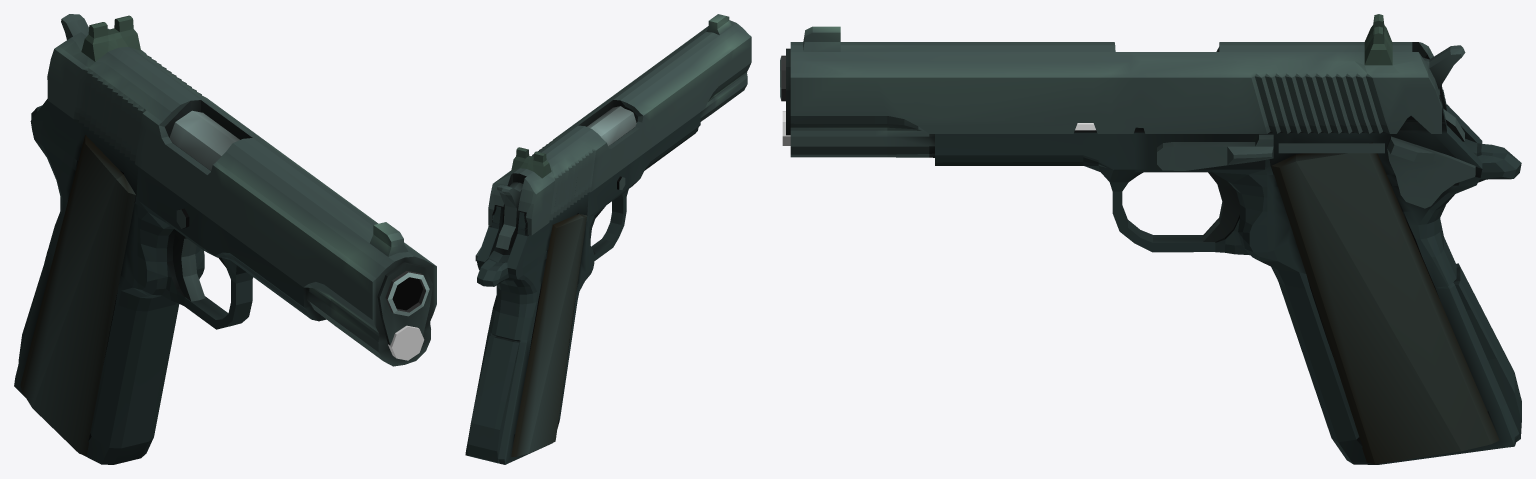
Rendered from colt_1911_a1.FBX.
The picture shows the model from 3 angles, left to right: view 1: azimuth 30°, elevation 25°; view 2: azimuth 150°, elevation 25°; view 3: azimuth 270°, elevation 25°; orthographic projection. The views are drawn at different scales.
Parts seen in each view (by area): view 1: slide, reciever, stock, barrel, barrel bushing, trigger, recoil spring plug, hammer; view 2: slide, reciever, stock, hammer, barrel; view 3: slide, reciever, stock, safety, slide stop, trigger, plunger tube, hammer.
Boxes of the visible parts, x1,y1,x2,y2 form: slide: (47,15,436,366); reciever: (14,99,326,464); stock: (20,135,135,455); barrel: (169,110,429,316); barrel bushing: (377,262,432,345); trigger: (173,231,205,301); recoil spring plug: (388,325,424,360); hammer: (61,14,88,39); slide: (488,14,751,235); reciever: (465,112,700,464); stock: (511,214,586,456); hammer: (496,182,523,249); barrel: (587,106,636,146); slide: (790,14,1441,157); reciever: (935,85,1521,464); stock: (1271,142,1499,464); safety: (1387,136,1475,208); slide stop: (1157,134,1273,170); trigger: (1202,172,1239,241); plunger tube: (1278,143,1384,153); hammer: (1422,45,1465,141).
Bounding box in the file's own units: 0.0273 × 0.1279 × 0.2.
